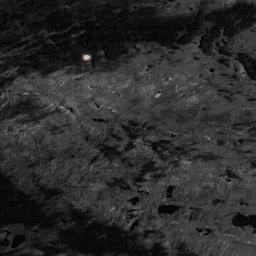Target: (81, 53, 92, 62)
